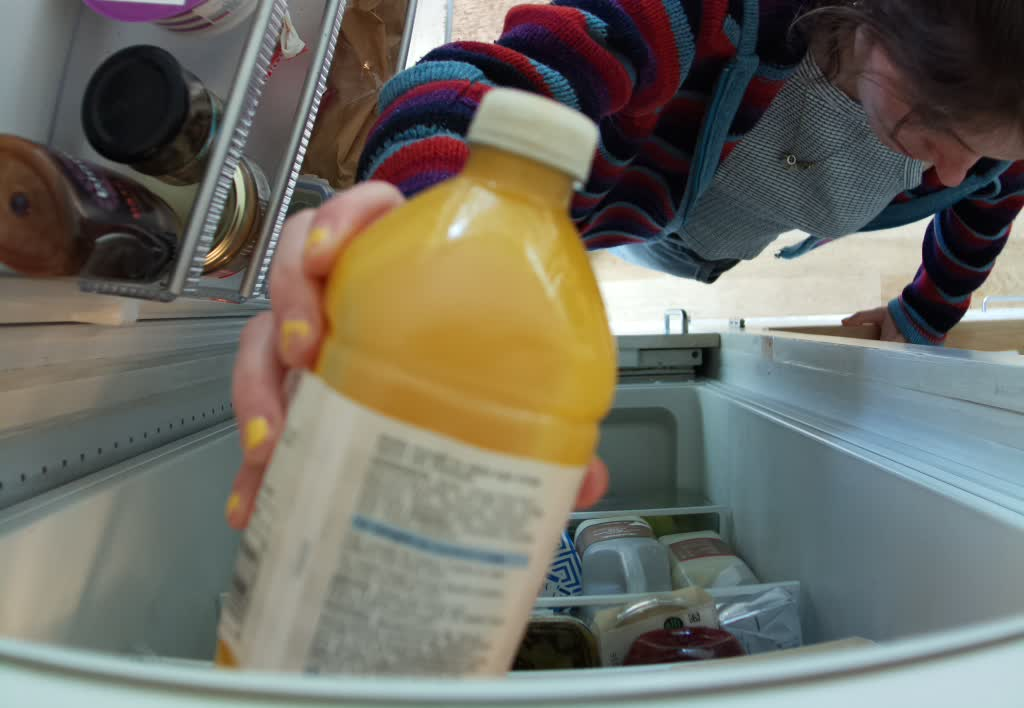juice: (205, 89, 608, 684)
